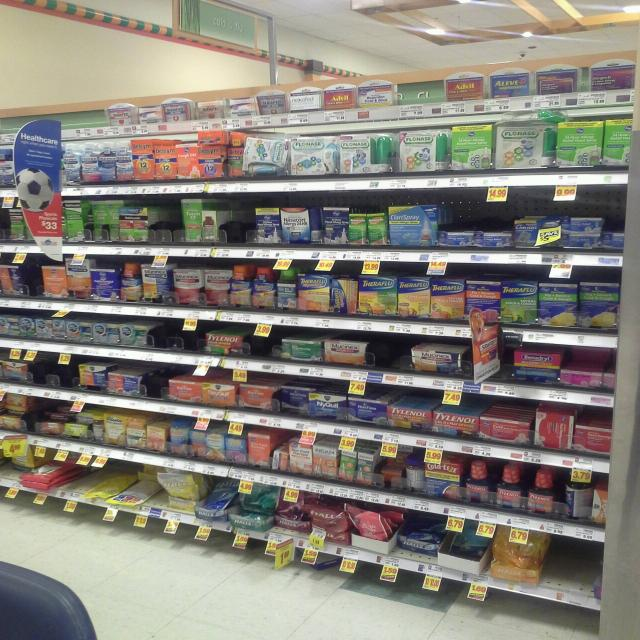empty: (536, 535, 599, 593), (22, 349, 79, 395), (147, 193, 190, 245), (141, 321, 201, 358), (213, 201, 264, 243), (366, 337, 415, 379), (240, 325, 286, 360)
